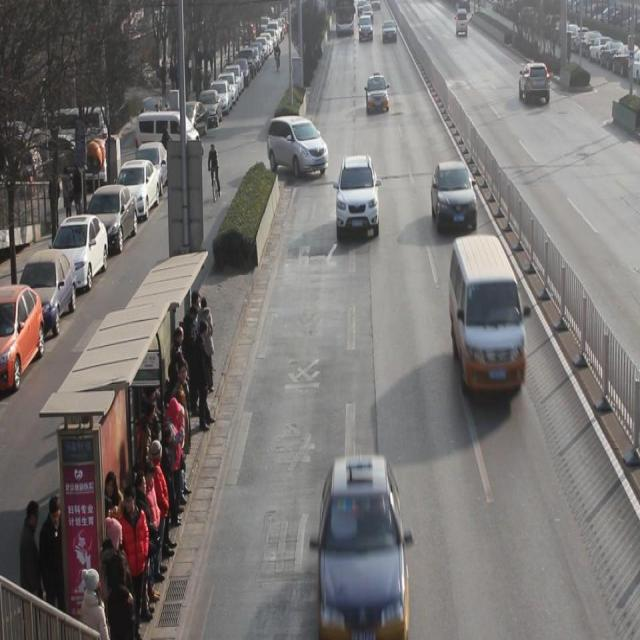car: (320, 453, 410, 630), (337, 155, 380, 240), (432, 160, 479, 235), (520, 62, 552, 106), (366, 74, 390, 116)
truck: (450, 236, 527, 400)
